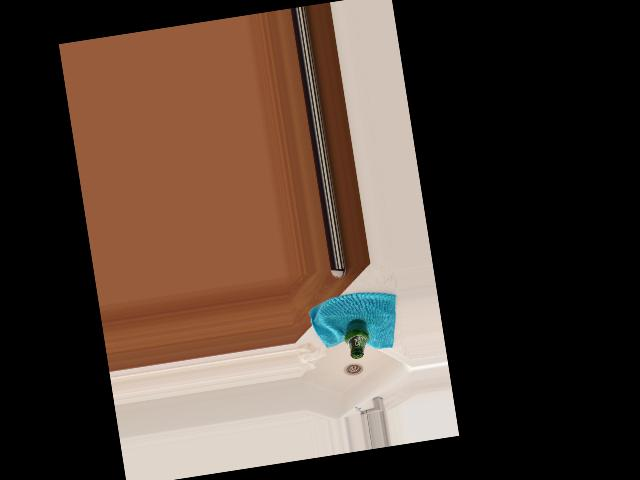beer: (341, 317, 371, 359)
